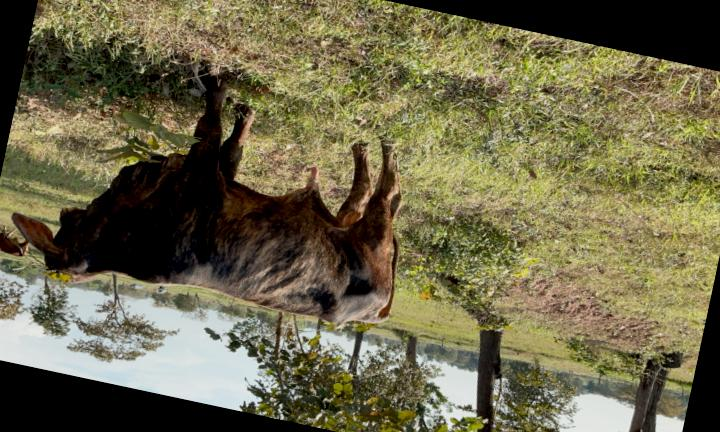Charolais: (13, 82, 402, 323)
